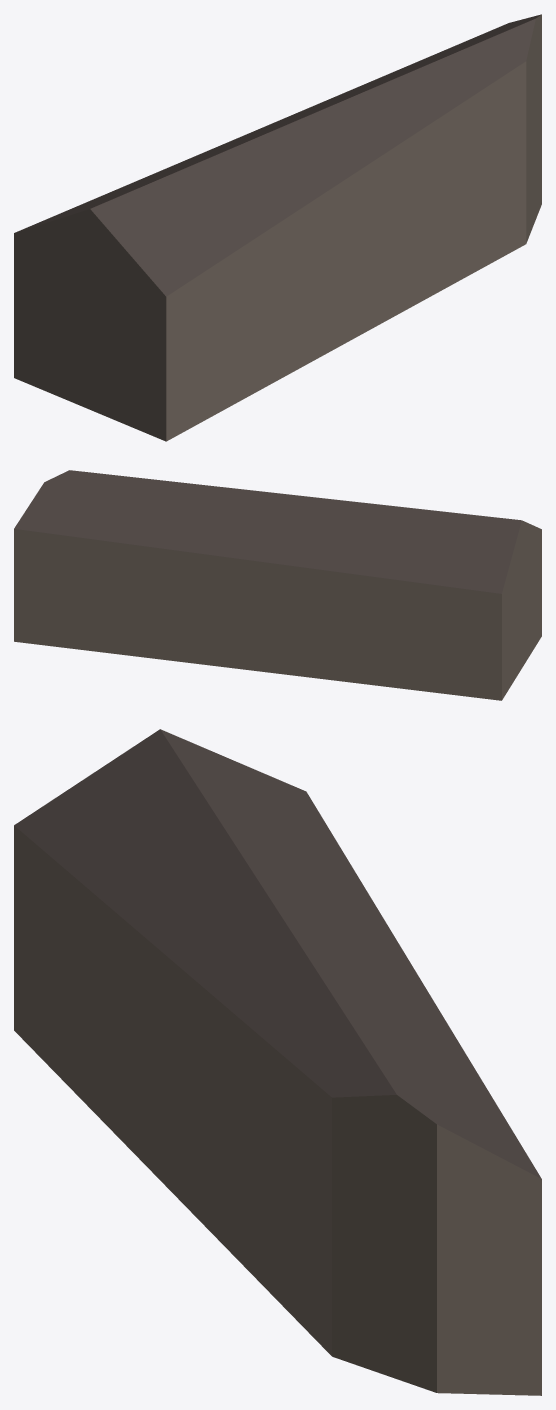
The picture shows the model from 3 angles, top to bottom: view 1: azimuth 30°, elevation 25°; view 2: azimuth 150°, elevation 25°; view 3: azimuth 270°, elevation 25°; orthographic projection. The views are drawn at different scales.
Visible parts, largest first — view 1: HP-w1512911292; view 2: HP-w1512911292; view 3: HP-w1512911292.
Boxes of the visible parts, x1,y1,x2,y2 form: HP-w1512911292: (14, 14, 541, 441); HP-w1512911292: (14, 470, 541, 700); HP-w1512911292: (14, 729, 541, 1395).
Size of the model in its own units: 37.57 by 12.48 by 21.
